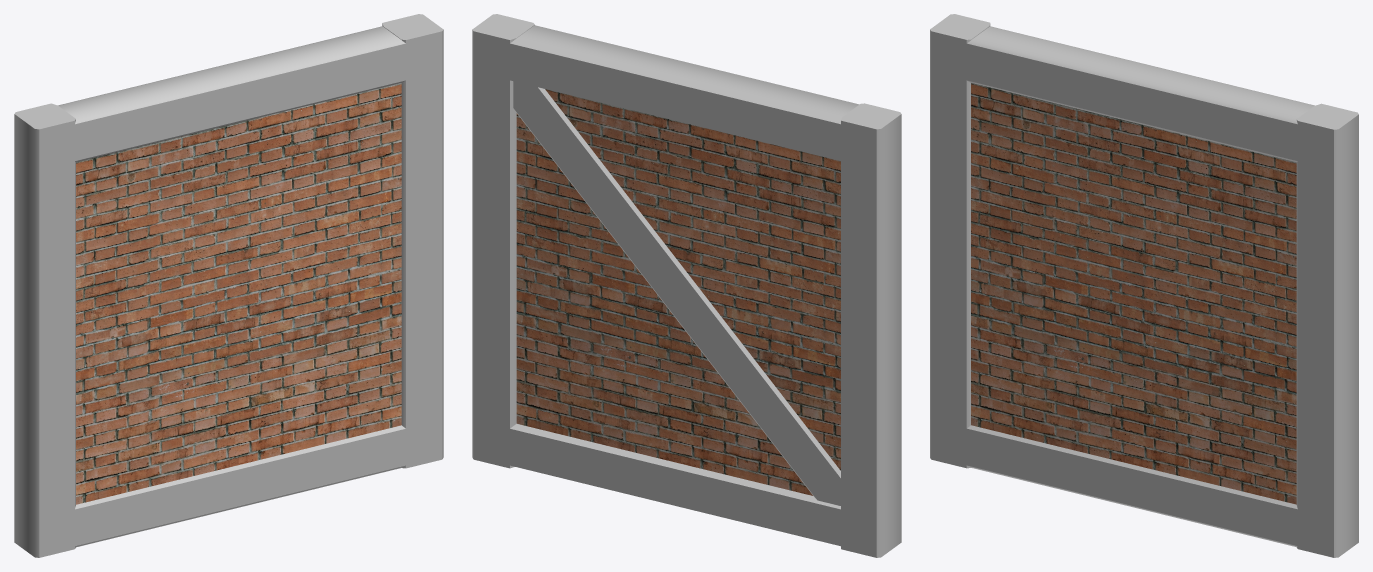
Rendered from House Half Brick Wall - Kopie.fbx.
The picture shows the model from 3 angles, left to right: view 1: azimuth 30°, elevation 25°; view 2: azimuth 150°, elevation 25°; view 3: azimuth 330°, elevation 25°; orthographic projection.
Visible parts, largest first — view 1: House Half Timber Wall; view 2: House Half Timber Wall; view 3: House Half Timber Wall.
Boxes of the visible parts, box(x1,y1,x2,y2) form: House Half Timber Wall: box(14, 14, 443, 557); House Half Timber Wall: box(472, 14, 901, 557); House Half Timber Wall: box(930, 14, 1358, 557).
Size of the model in its own units: 250 by 250 by 25.
